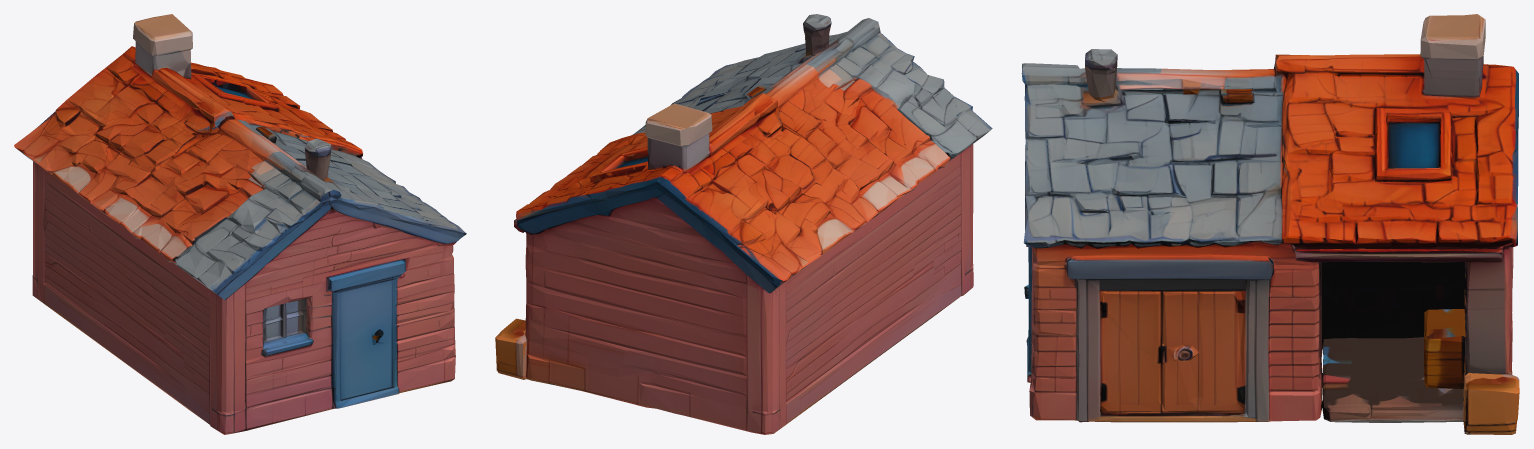
The picture shows the model from 3 angles, left to right: view 1: azimuth 30°, elevation 25°; view 2: azimuth 150°, elevation 25°; view 3: azimuth 270°, elevation 25°; orthographic projection. The views are drawn at different scales.
Parts seen in each view (by area): view 1: 0_1234_50_5.0_384_8000.obj; view 2: 0_1234_50_5.0_384_8000.obj; view 3: 0_1234_50_5.0_384_8000.obj.
Part boxes in pixels (left/top/right/bottom): 0_1234_50_5.0_384_8000.obj: left=14, top=14, right=466, bottom=434; 0_1234_50_5.0_384_8000.obj: left=495, top=14, right=992, bottom=434; 0_1234_50_5.0_384_8000.obj: left=1021, top=14, right=1519, bottom=434.
Bounding box in the file's own units: 1.55 × 1.41 × 1.98.
Materials: 1 (1 with a texture image).
